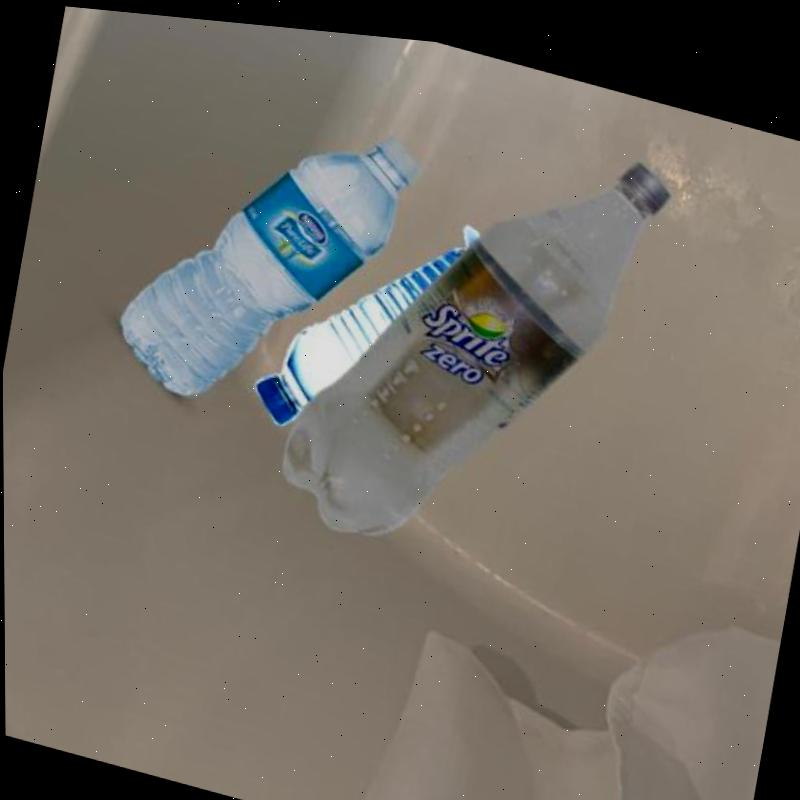botella: (272, 76, 678, 599), (107, 69, 423, 445), (247, 188, 465, 462)
